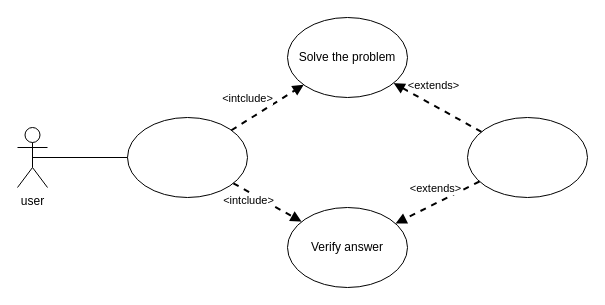
The diagram is 605 pixels wide and 305 high, and some of its shapes have lost their labels. The shapes that lost their labels are listed below. From the top down, each one's centre as x and y in pixels, then its label:
pixel 187 157: Transaction Verification
pixel 527 157: BlockChain
